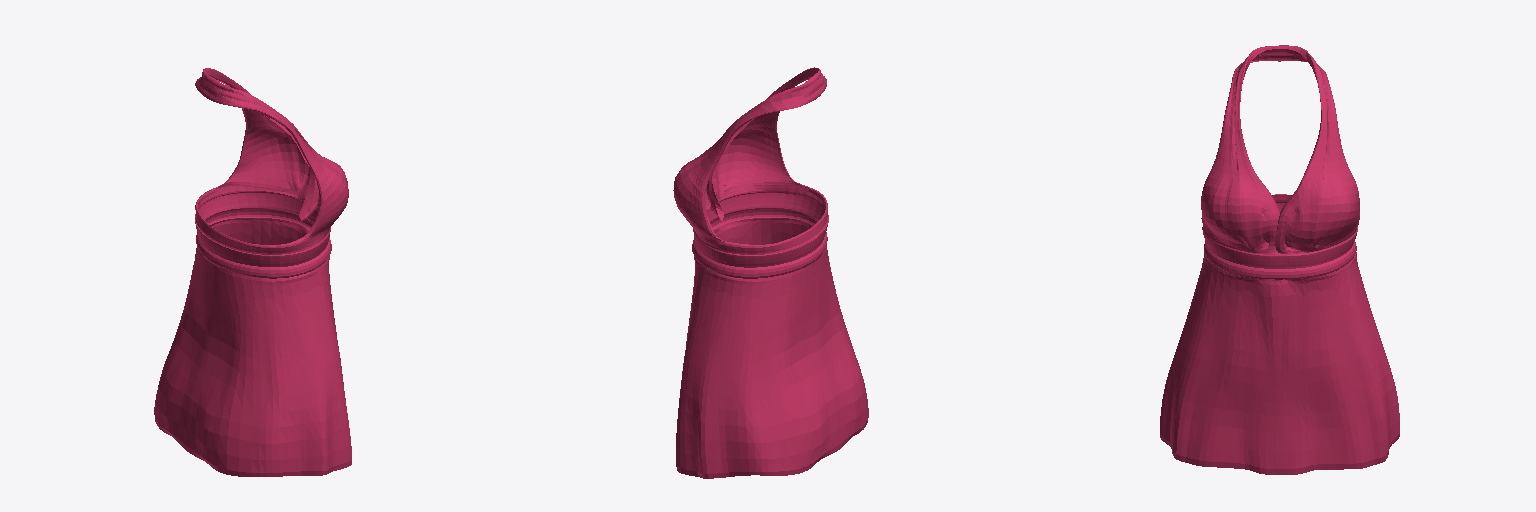
The model's file is duanqun1.obj.
3 views of the same model, side by side, from view 1: azimuth 30°, elevation 25°; view 2: azimuth 150°, elevation 25°; view 3: azimuth 270°, elevation 25° (orthographic).
Visible parts, largest first — view 1: file.002; view 2: file.002; view 3: file.002.
Boxes of the visible parts, x1=… form: file.002: x1=154, y1=68, x2=351, y2=476; file.002: x1=673, y1=67, x2=868, y2=478; file.002: x1=1160, y1=45, x2=1399, y2=474.
Bounding box in the file's own units: 2.47 × 6.25 × 3.61.